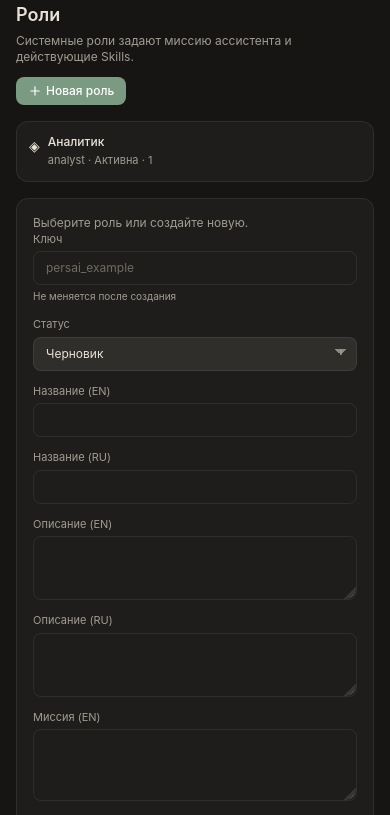
Test case: AdminRolesPage integration › refetches canonical state and reports localized partial save
Click the button "◈ Аналитик analyst · Активна · 1".
click(76, 142)  # box [17, 122, 373, 180]
(page scrolled)
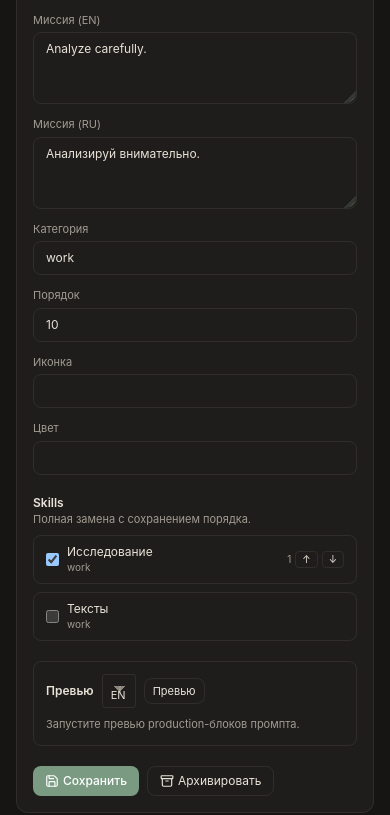
Click the checkbox named "Использовать Skill: Тексты".
click(52, 616)  # box [46, 610, 59, 623]
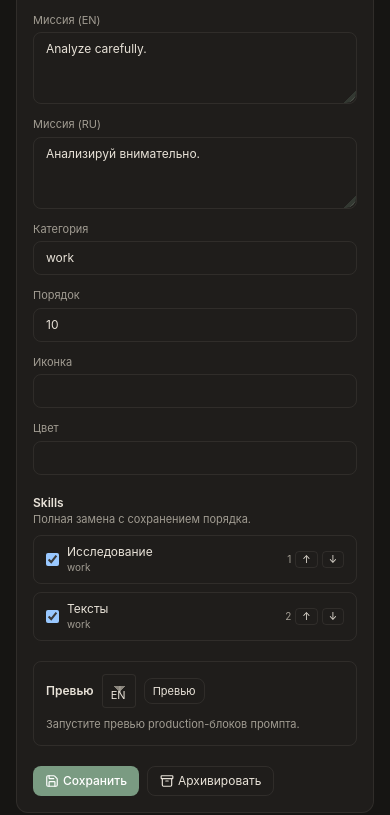
Click the button "Сохранить".
click(86, 780)  # box [33, 766, 139, 796]
(page scrolled)
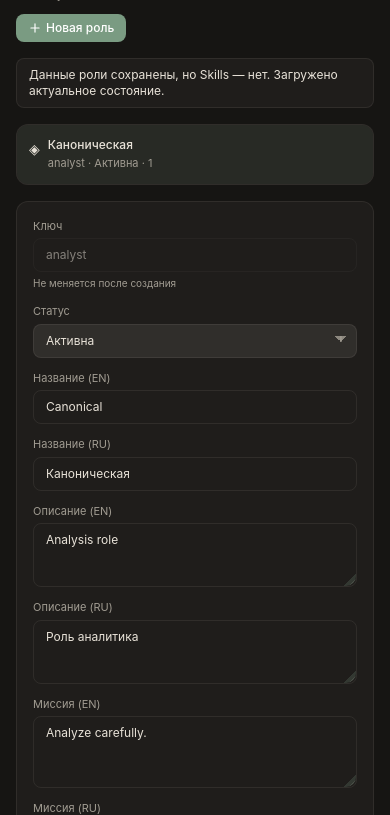
Result: the text "Данные роли сохранены, но Skills — нет. Загружено актуальное состояние." is shown at [16, 58, 374, 108]
Result: the field showing "Canonical" is shown at [33, 390, 357, 424]
